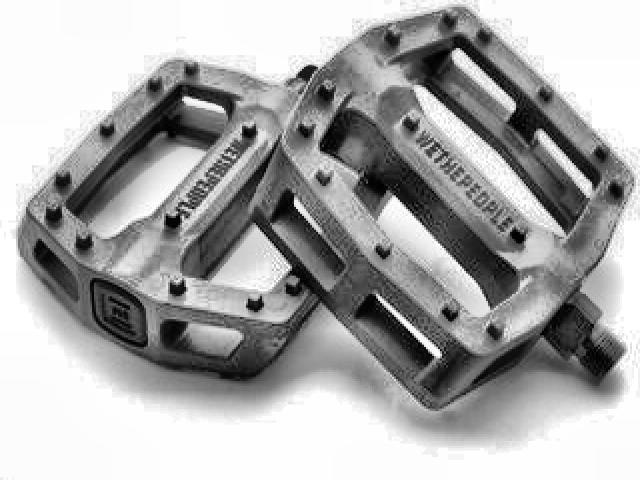pedal: (253, 6, 639, 416), (13, 53, 401, 383)
